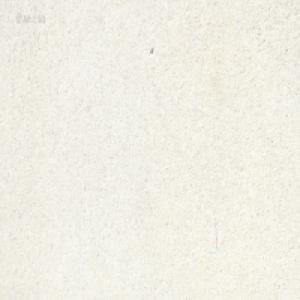Wrench: (192, 0, 198, 5)
